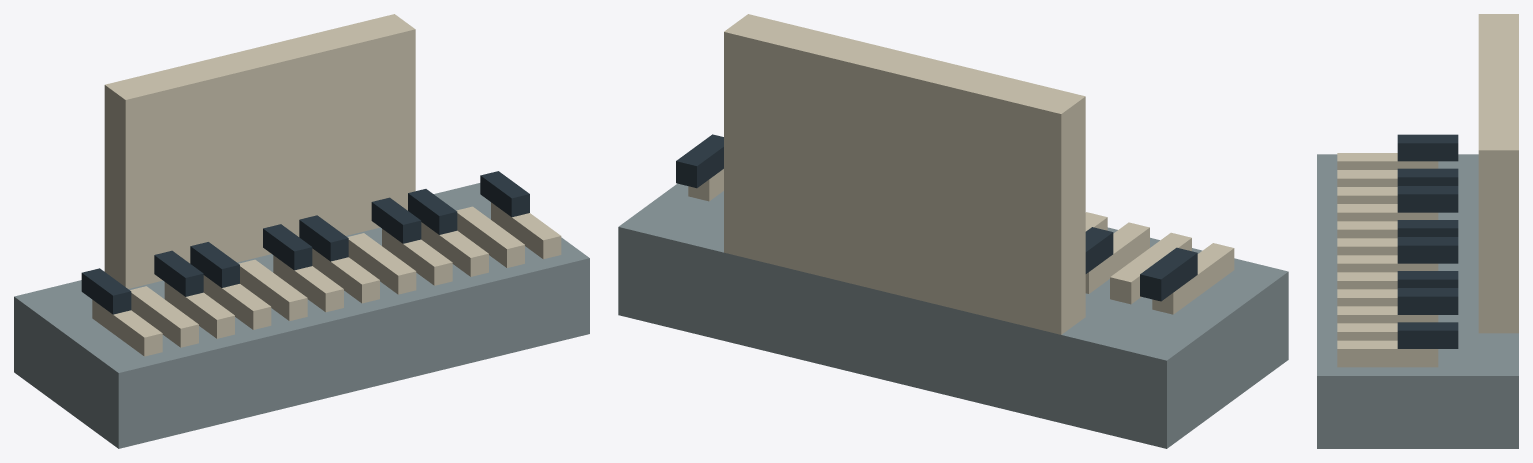
File: news-03.glb
3 views of the same model, side by side, from view 1: azimuth 30°, elevation 25°; view 2: azimuth 150°, elevation 25°; view 3: azimuth 270°, elevation 25° (orthographic). The views are drawn at different scales.
Parts seen in each view (by area): view 1: Typewriter; view 2: Typewriter; view 3: Typewriter.
Part boxes in pixels (box(x1,y1,x2,y2)): Typewriter: box(14, 14, 589, 448); Typewriter: box(618, 14, 1288, 448); Typewriter: box(1317, 14, 1518, 448).
Bounding box in the file's own units: 2.08 × 1.12 × 0.8.
